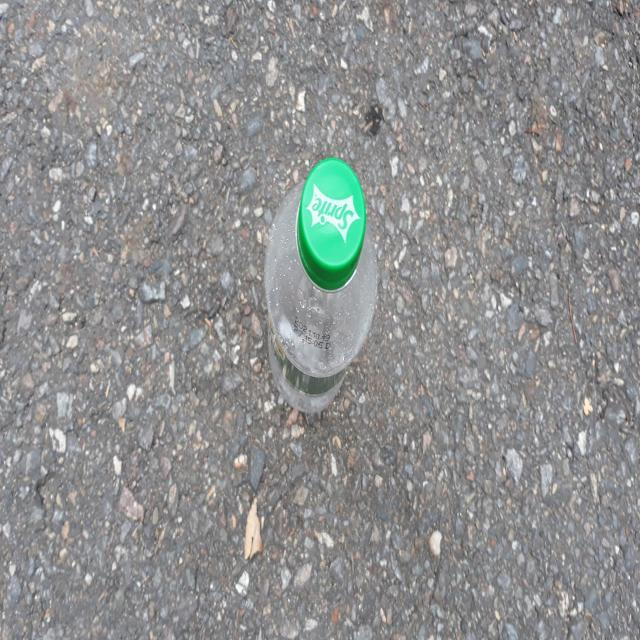plastic: (264, 156, 378, 413)
